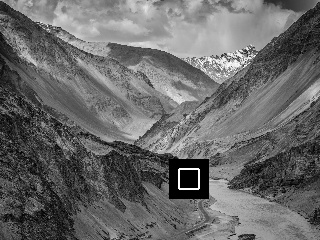square: (169, 159, 209, 199)
